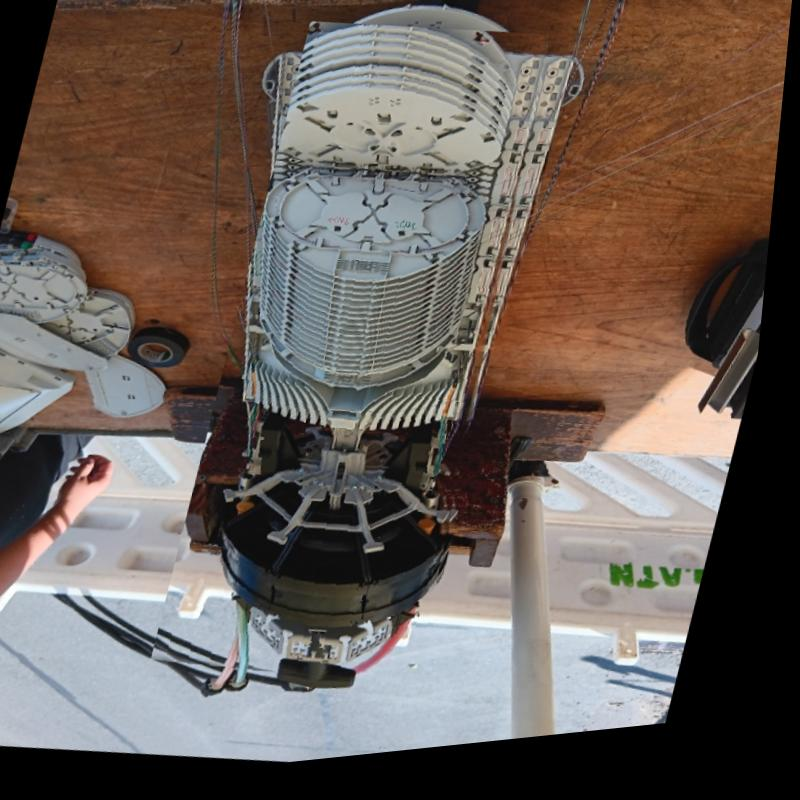NT-Muffen: (158, 5, 583, 719)
